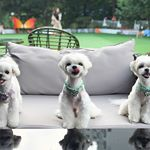puppy: (54, 51, 105, 129), (114, 54, 150, 126), (1, 55, 25, 127)
